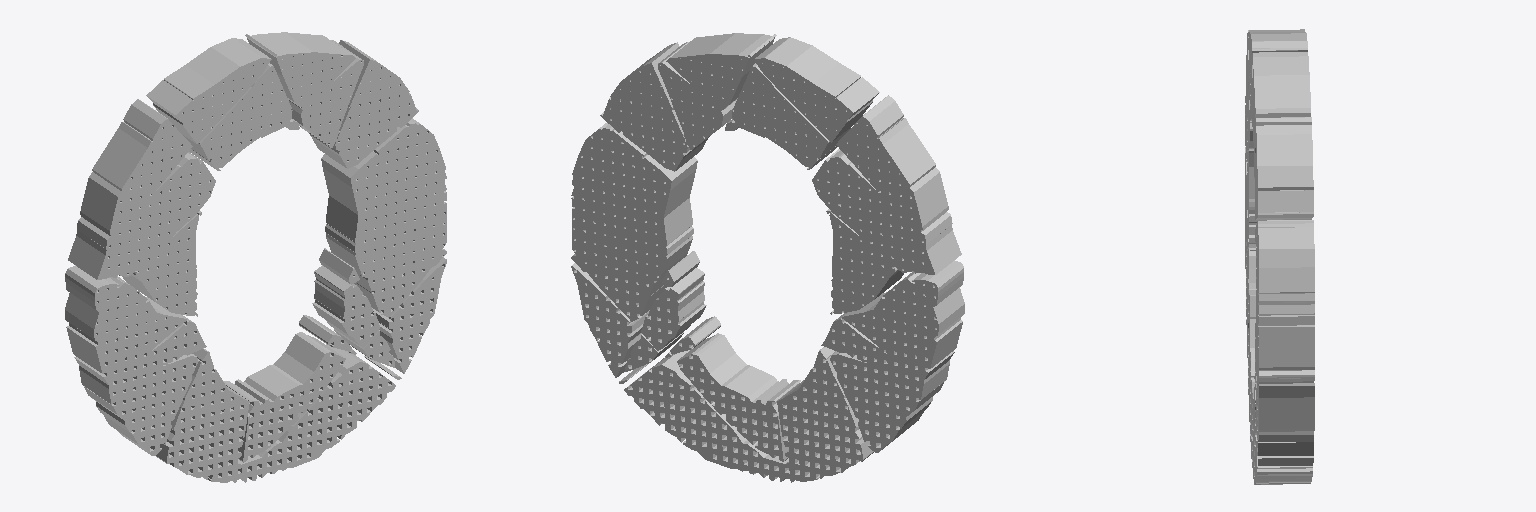
Rendered from 0_naranja.obj.
3 renders of one model, left to right at view 1: azimuth 30°, elevation 25°; view 2: azimuth 150°, elevation 25°; view 3: azimuth 270°, elevation 25°, orthographic.
Parts seen in each view (by area): view 1: Mesh5 G_0_1_1 Model, Mesh6 G_0_1_1 Model, Mesh8 G_0_1_1 Model, Mesh13 G_0_1_1 Model, Mesh3 G_0_1_1 Model, Mesh16 G_0_1_1 Model, Mesh2 G_0_1_1 Model, Mesh4 G_0_1_1 Model, Mesh11 G_0_1_1 Model, Mesh12 G_0_1_1 Model, Mesh15 G_0_1_1 Model, Mesh14 G_0_1_1 Model (+1 smaller); view 2: Mesh5 G_0_1_1 Model, Mesh6 G_0_1_1 Model, Mesh8 G_0_1_1 Model, Mesh13 G_0_1_1 Model, Mesh3 G_0_1_1 Model, Mesh16 G_0_1_1 Model, Mesh2 G_0_1_1 Model, Mesh4 G_0_1_1 Model, Mesh11 G_0_1_1 Model, Mesh12 G_0_1_1 Model, Mesh15 G_0_1_1 Model, Mesh14 G_0_1_1 Model (+1 smaller); view 3: Mesh3 G_0_1_1 Model, Mesh6 G_0_1_1 Model, Mesh11 G_0_1_1 Model, Mesh13 G_0_1_1 Model, Mesh5 G_0_1_1 Model, Mesh2 G_0_1_1 Model, Mesh8 G_0_1_1 Model.
Boxes of the visible parts, <box> form: Mesh5 G_0_1_1 Model: <box>68,99,215,315</box>; Mesh6 G_0_1_1 Model: <box>321,118,446,317</box>; Mesh8 G_0_1_1 Model: <box>65,265,206,455</box>; Mesh13 G_0_1_1 Model: <box>156,344,395,482</box>; Mesh3 G_0_1_1 Model: <box>247,32,418,168</box>; Mesh16 G_0_1_1 Model: <box>223,332,345,462</box>; Mesh2 G_0_1_1 Model: <box>146,38,271,143</box>; Mesh4 G_0_1_1 Model: <box>183,63,299,170</box>; Mesh11 G_0_1_1 Model: <box>372,257,446,373</box>; Mesh12 G_0_1_1 Model: <box>312,265,379,347</box>; Mesh15 G_0_1_1 Model: <box>334,329,394,367</box>; Mesh14 G_0_1_1 Model: <box>299,315,351,351</box>; Mesh5 G_0_1_1 Model: <box>812,95,961,313</box>; Mesh6 G_0_1_1 Model: <box>571,123,697,321</box>; Mesh8 G_0_1_1 Model: <box>821,260,964,452</box>; Mesh13 G_0_1_1 Model: <box>624,347,873,482</box>; Mesh3 G_0_1_1 Model: <box>600,33,774,171</box>; Mesh16 G_0_1_1 Model: <box>677,333,800,461</box>; Mesh2 G_0_1_1 Model: <box>754,37,879,142</box>; Mesh4 G_0_1_1 Model: <box>725,63,850,169</box>; Mesh11 G_0_1_1 Model: <box>571,263,649,377</box>; Mesh12 G_0_1_1 Model: <box>641,268,706,350</box>; Mesh15 G_0_1_1 Model: <box>625,332,683,371</box>; Mesh14 G_0_1_1 Model: <box>670,316,720,354</box>; Mesh3 G_0_1_1 Model: <box>1252,52,1313,220</box>; Mesh6 G_0_1_1 Model: <box>1255,220,1314,396</box>; Mesh11 G_0_1_1 Model: <box>1257,383,1314,465</box>; Mesh13 G_0_1_1 Model: <box>1248,295,1312,484</box>; Mesh5 G_0_1_1 Model: <box>1245,30,1256,247</box>; Mesh2 G_0_1_1 Model: <box>1248,29,1307,77</box>; Mesh8 G_0_1_1 Model: <box>1245,147,1255,357</box>.
Size of the model in its own units: 74.93 by 83.3 by 12.61.